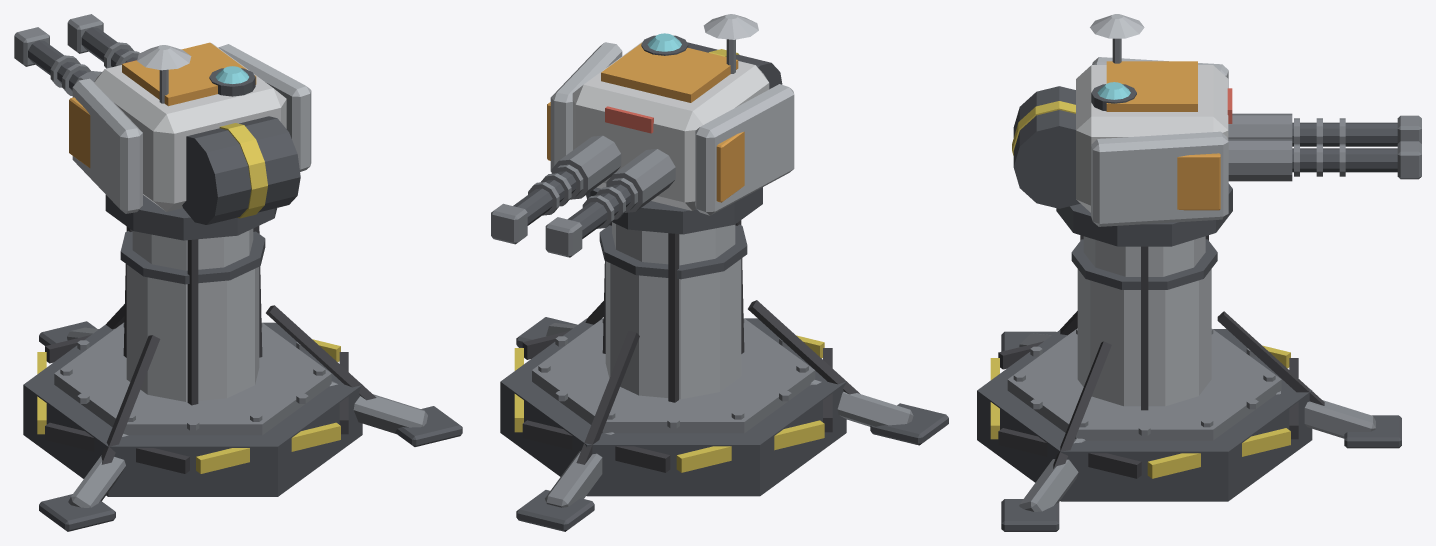
The model's file is turret.glb.
The picture shows the model from 3 angles, left to right: view 1: azimuth 30°, elevation 25°; view 2: azimuth 150°, elevation 25°; view 3: azimuth 270°, elevation 25°; orthographic projection. The views are drawn at different scales.
Visible parts, largest first — view 1: base, head; view 2: base, head, glow_red.001; view 3: base, head.
Part boxes in pixels (x1,y1,x2,y2): base: [23, 195, 462, 531]; head: [14, 14, 311, 224]; base: [500, 187, 948, 531]; head: [491, 14, 794, 257]; glow_red.001: [605, 106, 653, 133]; base: [977, 183, 1401, 531]; head: [1012, 14, 1421, 226].
Size of the model in its own units: 2.98 by 2.95 by 2.92.
